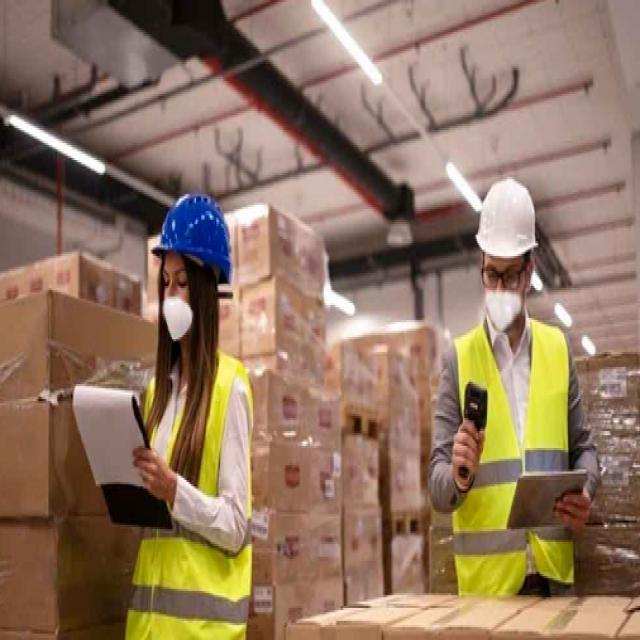helmet: (151, 196, 234, 349), (472, 174, 540, 326)
vest: (120, 343, 253, 639), (450, 316, 581, 597)
